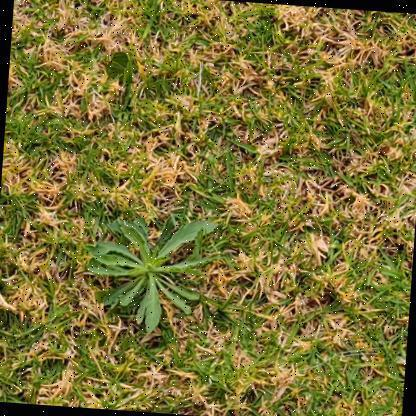Weeds: (80, 210, 220, 338)
